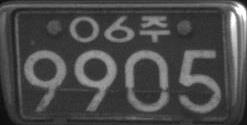0: (123, 48, 170, 113), (68, 15, 100, 43)
5: (178, 48, 222, 114)
6: (103, 15, 135, 43)
9: (22, 48, 67, 114), (73, 48, 118, 112)
주: (139, 14, 170, 43)
